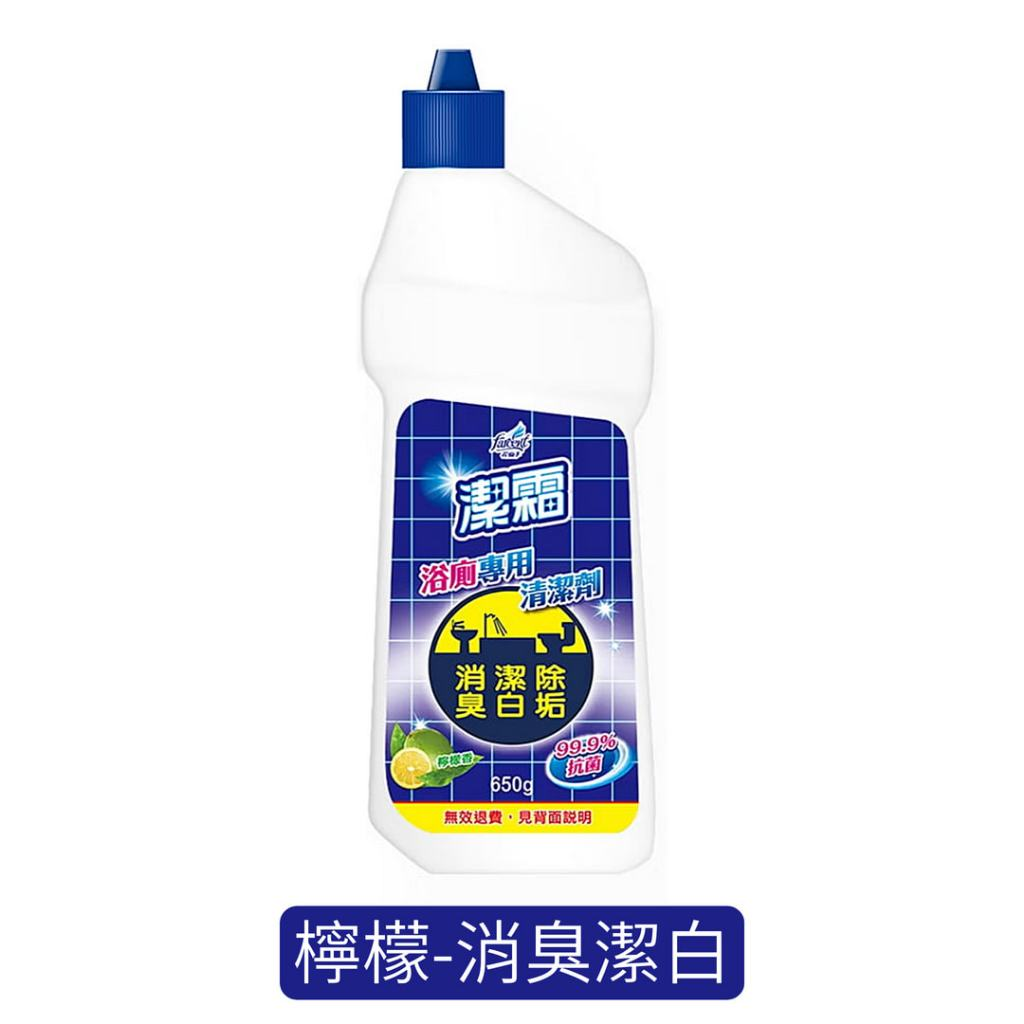cleaner: (327, 31, 683, 881)
